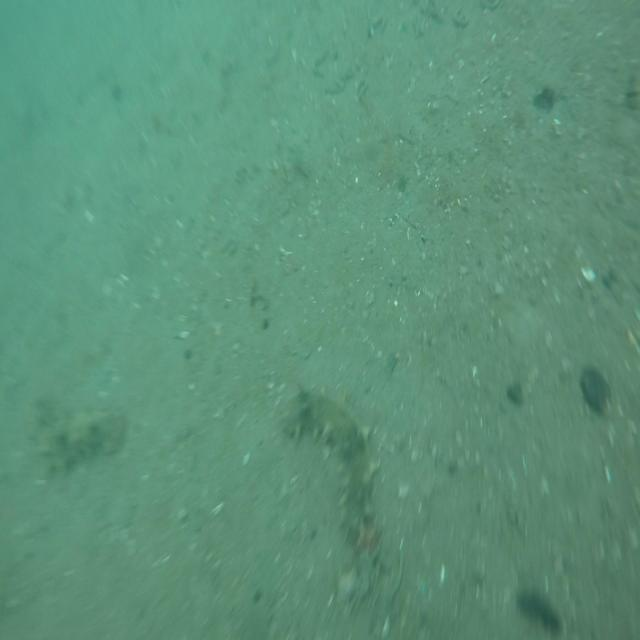holothurian: (280, 381, 380, 540), (31, 404, 130, 476)
